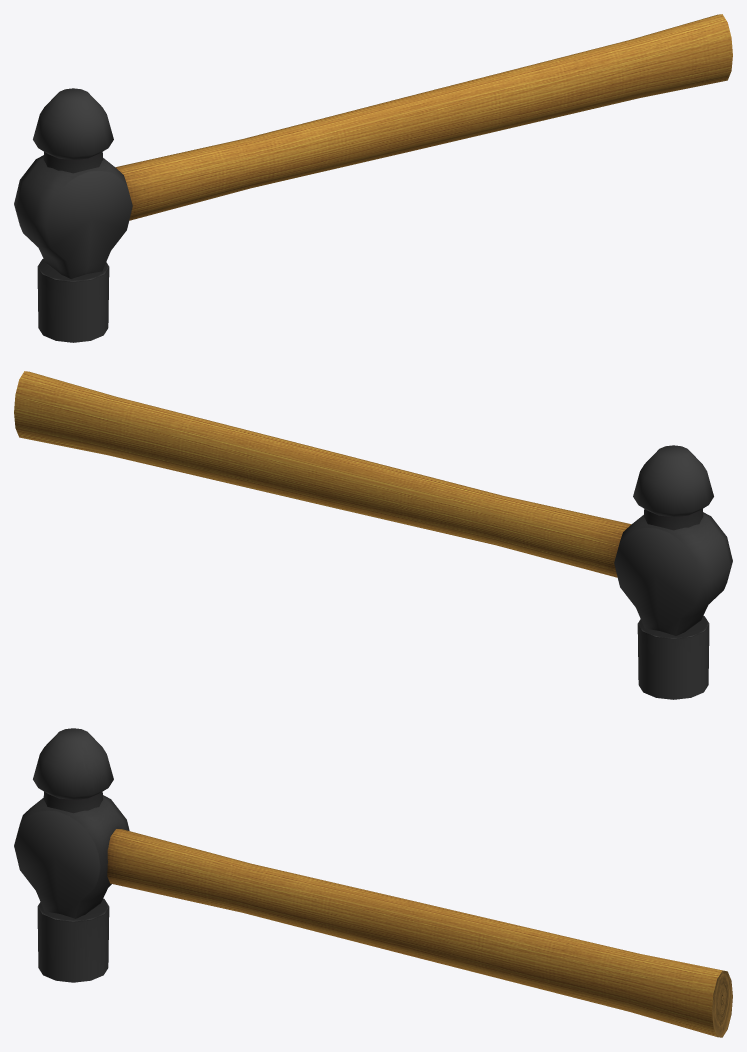
3 renders of one model, top to bottom at view 1: azimuth 30°, elevation 25°; view 2: azimuth 150°, elevation 25°; view 3: azimuth 330°, elevation 25°, orthographic.
Parts seen in each view (by area): view 1: JJ_Langtou; view 2: JJ_Langtou; view 3: JJ_Langtou.
Boxes of the visible parts, x1,y1,x2,y2 form: JJ_Langtou: [14, 14, 732, 342]; JJ_Langtou: [14, 371, 732, 699]; JJ_Langtou: [14, 728, 732, 1037].
Size of the model in its own units: 34.72 by 11.06 by 3.5.
1 material, 1 textured.
